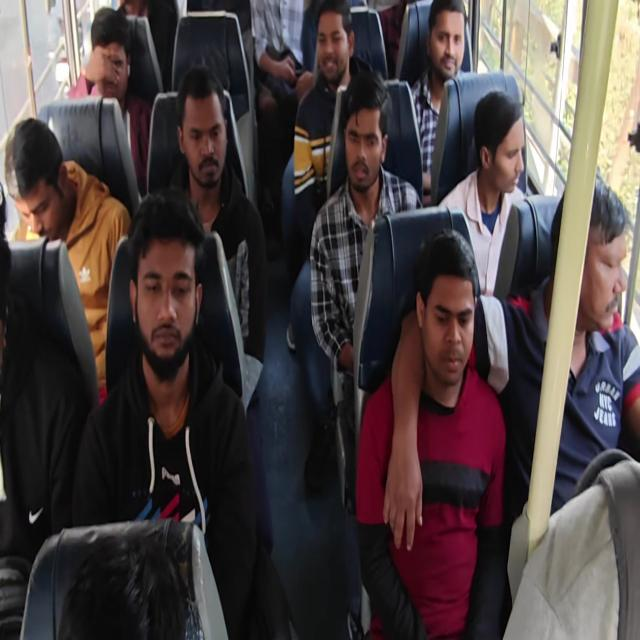person: (2, 0, 638, 638), (390, 170, 639, 534), (70, 188, 258, 638), (355, 228, 508, 638), (0, 182, 86, 638), (4, 116, 132, 403), (166, 63, 268, 410), (309, 69, 423, 378), (437, 89, 530, 302), (292, 1, 373, 244), (65, 6, 152, 197), (57, 535, 201, 639), (250, 0, 312, 215), (409, 0, 466, 204)
